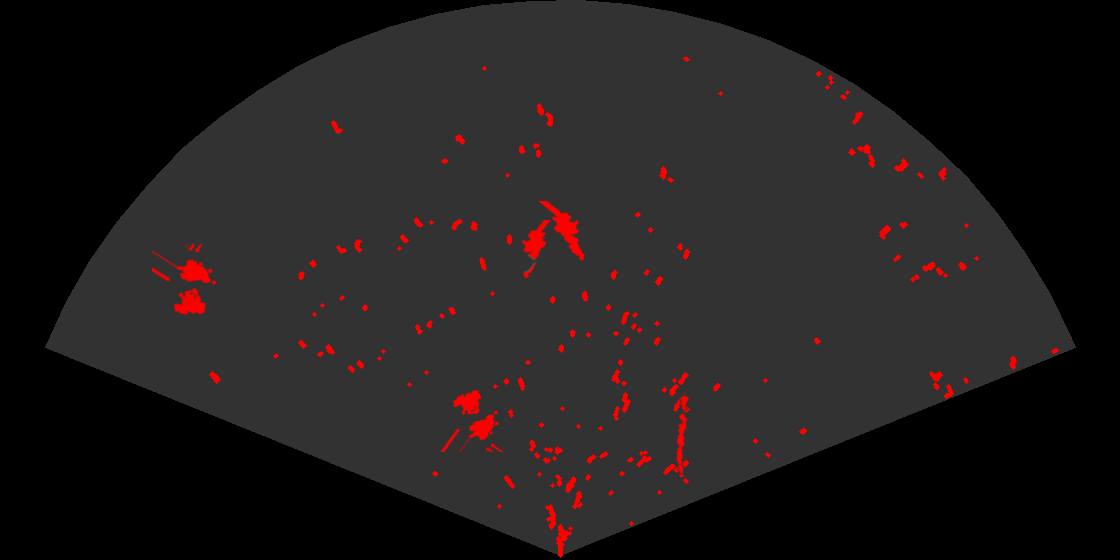cage: (152, 244, 218, 316), (439, 388, 505, 452)
chain: (674, 393, 690, 475)
frogman: (539, 201, 587, 262), (520, 220, 553, 280)
